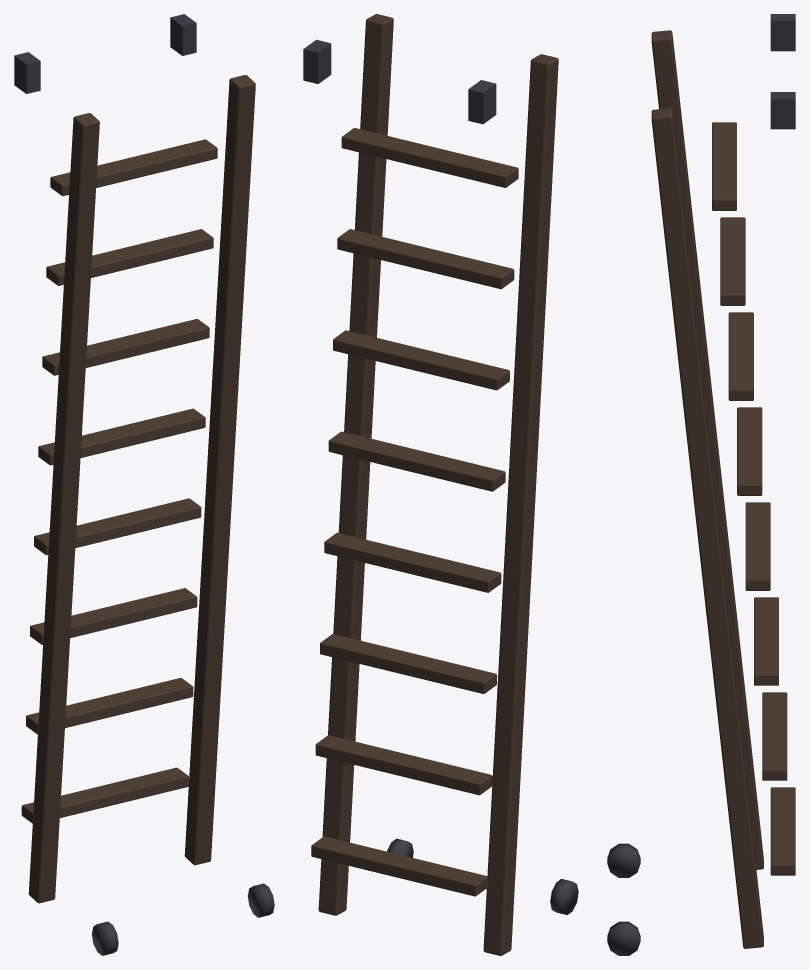
Rendered from study_furniture_library_ladder.glb.
3 renders of one model, left to right at view 1: azimuth 30°, elevation 25°; view 2: azimuth 150°, elevation 25°; view 3: azimuth 270°, elevation 25°, orthographic. The views are drawn at different scales.
Parts seen in each view (by area): view 1: GD_study_furniture_library_ladder__m0, GD_study_furniture_library_ladder__m1; view 2: GD_study_furniture_library_ladder__m0, GD_study_furniture_library_ladder__m1; view 3: GD_study_furniture_library_ladder__m0, GD_study_furniture_library_ladder__m1.
Boxes of the visible parts, x1=… form: GD_study_furniture_library_ladder__m0: x1=21, y1=75, x2=255, y2=903; GD_study_furniture_library_ladder__m1: x1=14, y1=14, x2=274, y2=955; GD_study_furniture_library_ladder__m0: x1=311, y1=14, x2=558, y2=955; GD_study_furniture_library_ladder__m1: x1=303, y1=39, x2=578, y2=915; GD_study_furniture_library_ladder__m0: x1=651, y1=30, x2=795, y2=948; GD_study_furniture_library_ladder__m1: x1=607, y1=14, x2=795, y2=955.
Bounding box in the file's own units: 0.49 × 2.26 × 0.45.
